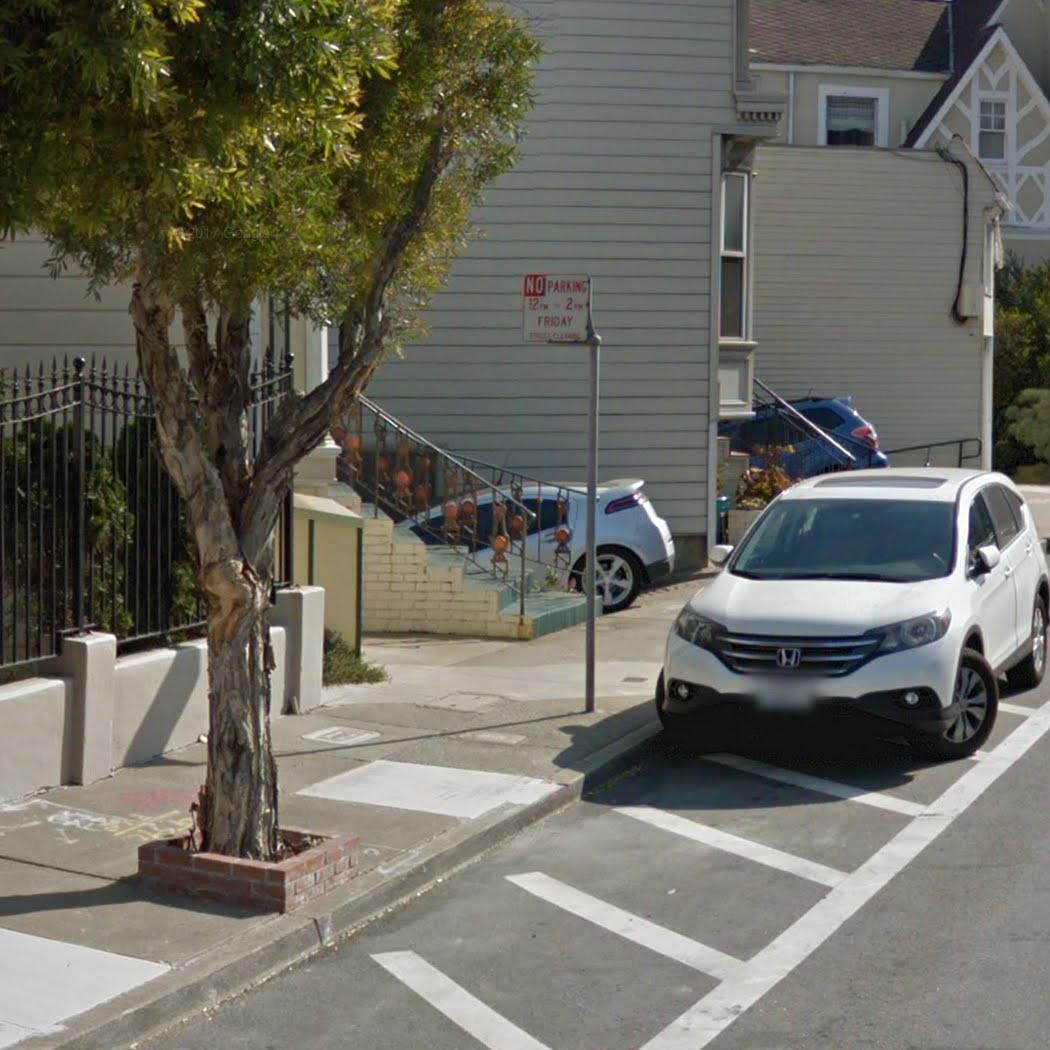No Parking: (516, 268, 600, 344)
